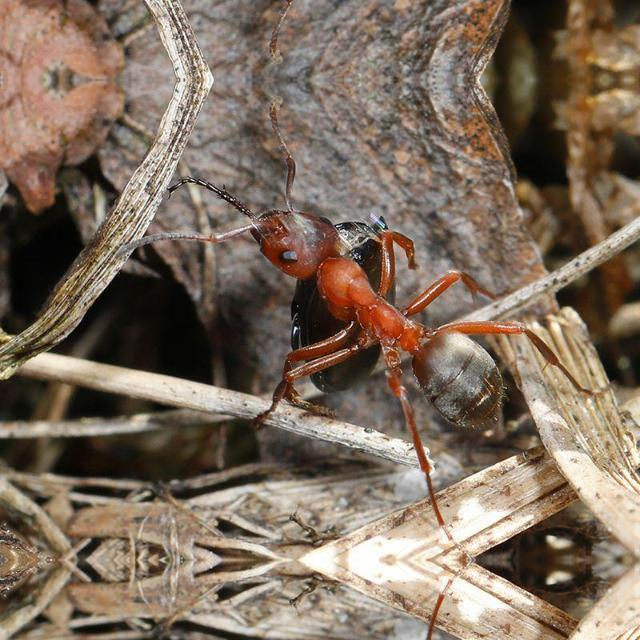Formica: (223, 162, 529, 456)
